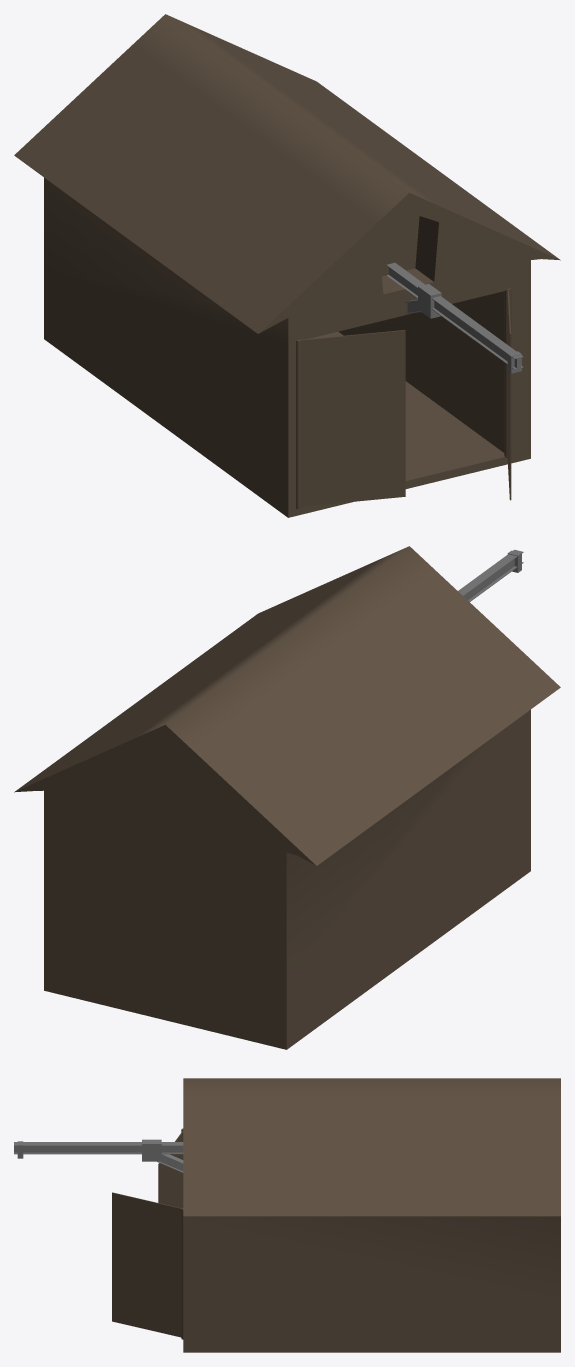
Rendered from Barn.fbx.
3 renders of one model, top to bottom at view 1: azimuth 30°, elevation 25°; view 2: azimuth 150°, elevation 25°; view 3: azimuth 270°, elevation 25°, orthographic. The views are drawn at different scales.
Parts seen in each view (by area): view 1: Barn; view 2: Barn; view 3: Barn.
Part boxes in pixels (box(x1,y1,x2,y2)): Barn: box(14, 14, 560, 517); Barn: box(14, 546, 560, 1049); Barn: box(14, 1078, 560, 1352).
Bounding box in the file's own units: 9.88 × 9.21 × 19.97.
